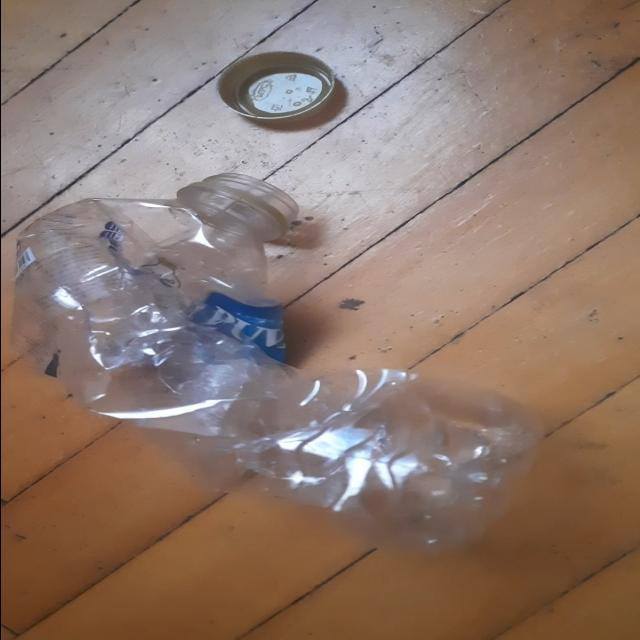Plastic: (12, 174, 544, 552)
